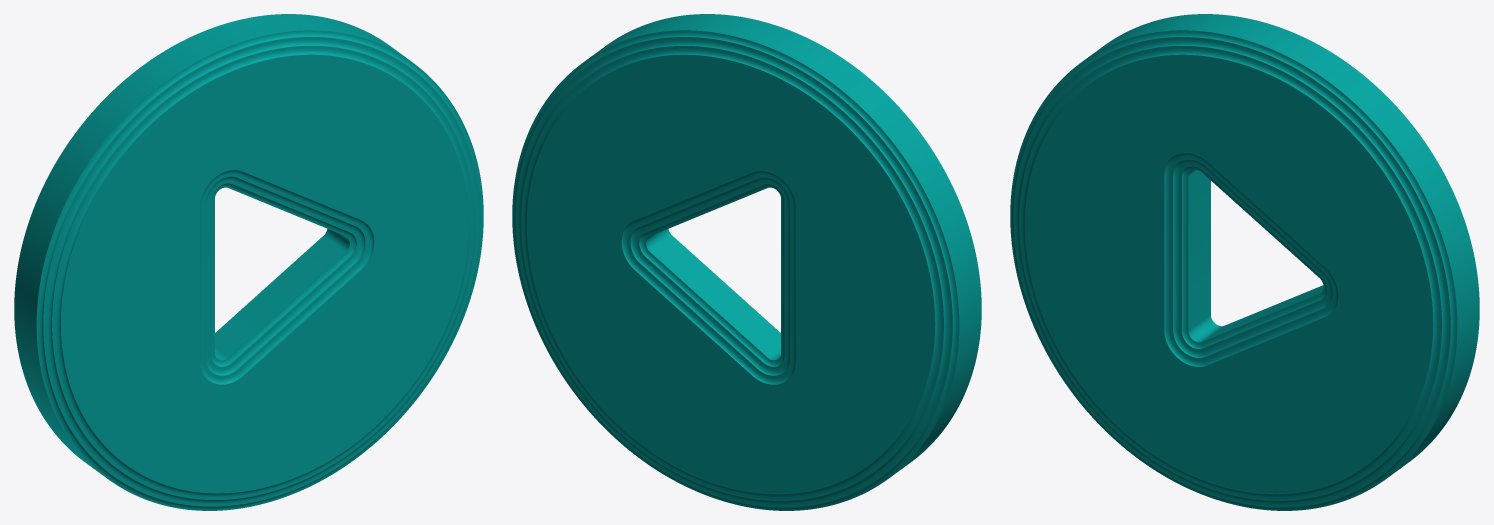
File: testmodel.gltf
3 views of the same model, side by side, from view 1: azimuth 30°, elevation 25°; view 2: azimuth 150°, elevation 25°; view 3: azimuth 330°, elevation 25° (orthographic).
Size of the model in its own units: 0.0996 by 0.0996 by 0.0123.
